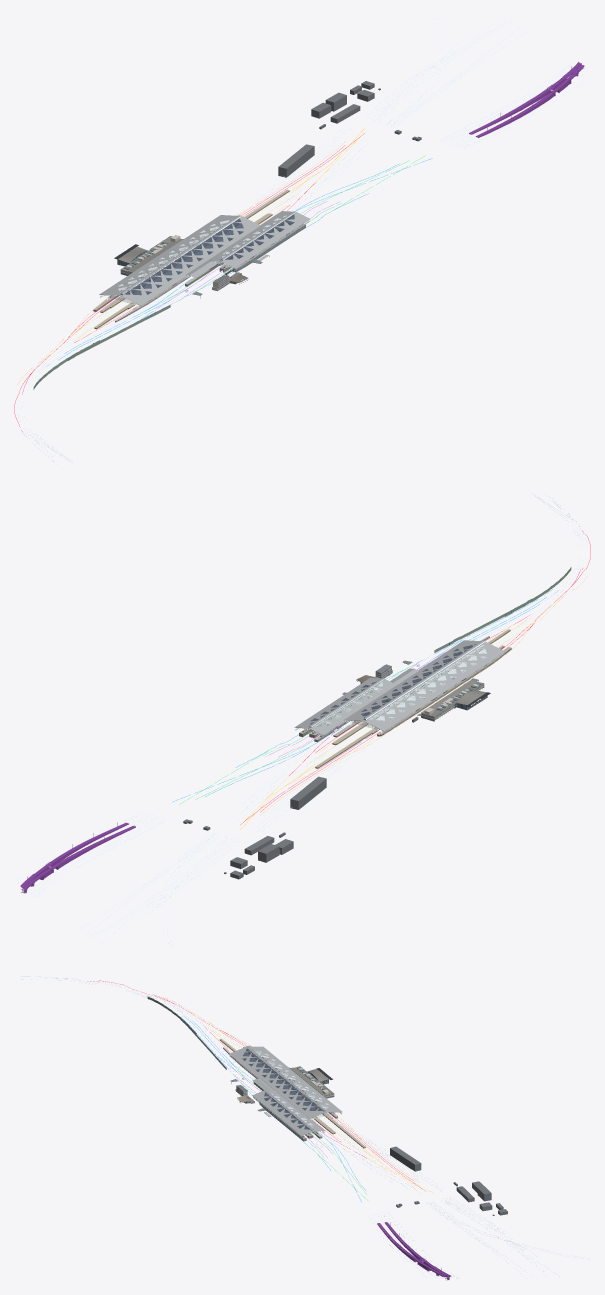
The picture shows the model from 3 angles, top to bottom: view 1: azimuth 30°, elevation 25°; view 2: azimuth 210°, elevation 25°; view 3: azimuth 270°, elevation 25°; orthographic projection. The views are drawn at different scales.
Parts seen in each view (by area): view 1: Building, Roof, Existing; view 2: Building, Roof, Existing; view 3: Building, Roof, Existing.
Part boxes in pixels (x1,y1,x2,y2): Building: (14, 14, 590, 464); Roof: (99, 211, 310, 308); Existing: (114, 235, 248, 291); Building: (14, 493, 590, 946); Roof: (294, 640, 505, 737); Existing: (356, 664, 490, 721); Building: (14, 976, 590, 1280); Roof: (229, 1046, 342, 1137); Existing: (235, 1066, 334, 1103).
Size of the model in its own units: 1573 by 28.92 by 1262.
